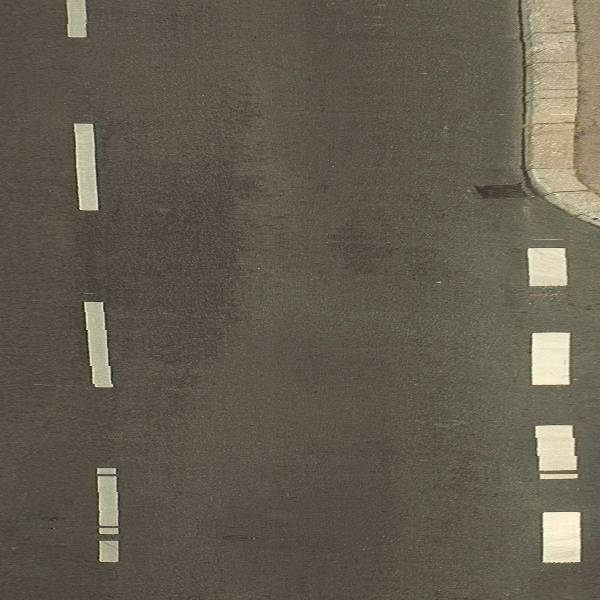road_damage: (178, 147, 268, 373), (209, 87, 262, 143)
